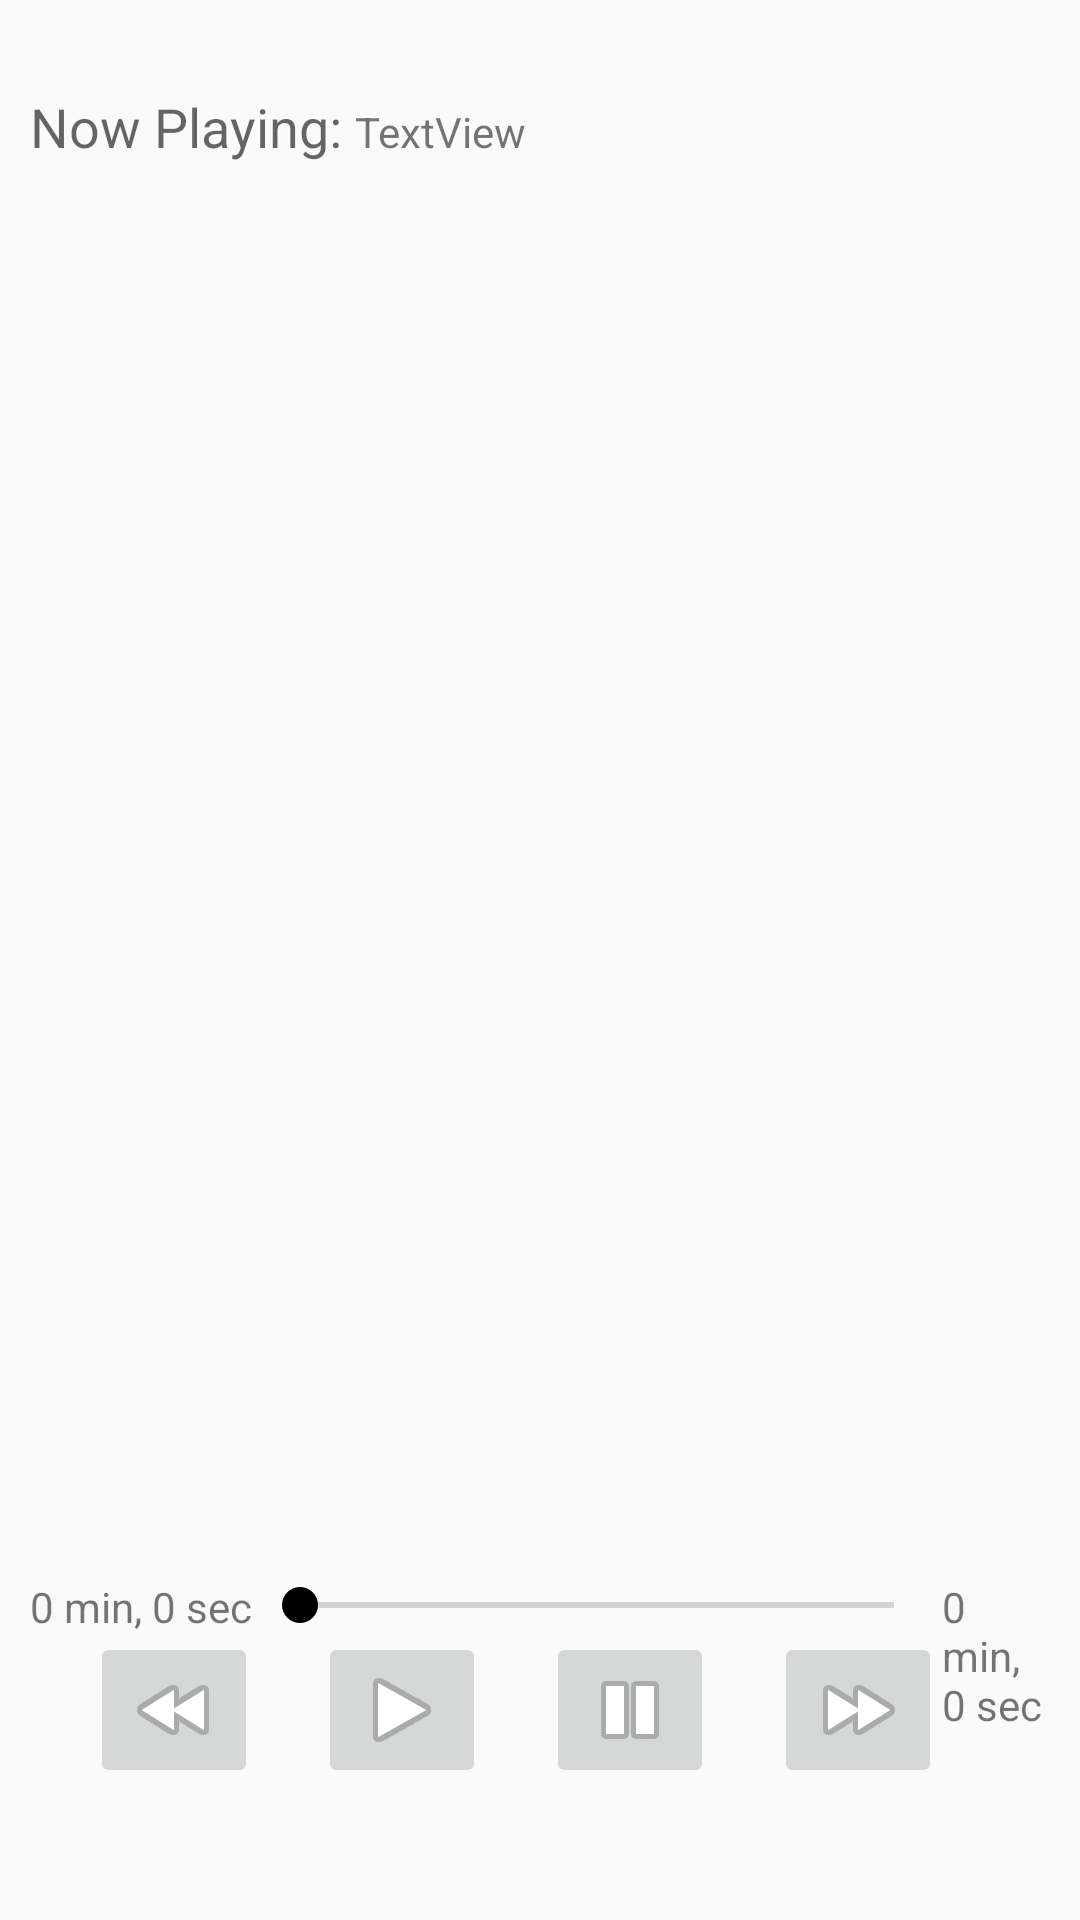

Icon bounding boxes for this 1080w x 1920h phone screenshot, format box=[x1, y1, x2, y2]:
pause: box=[558, 1650, 702, 1770]
play: box=[330, 1650, 474, 1770]
rew: box=[102, 1650, 246, 1770]
